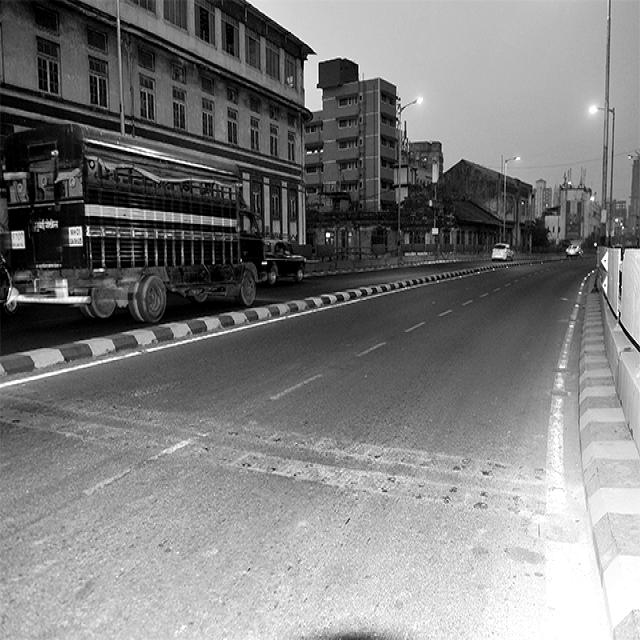cleat: (50, 170, 640, 600)
